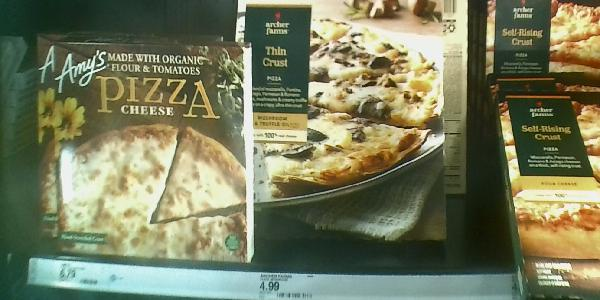pizza1: (233, 1, 448, 242), (33, 33, 254, 267)
